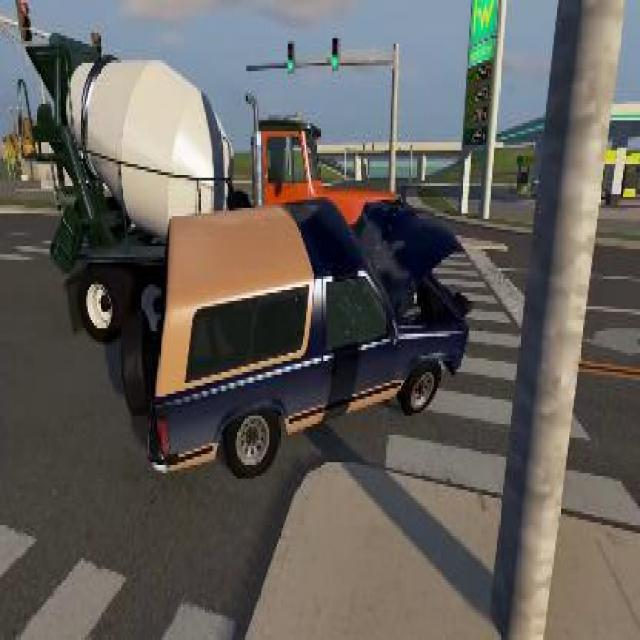accident: (24, 22, 470, 481)
